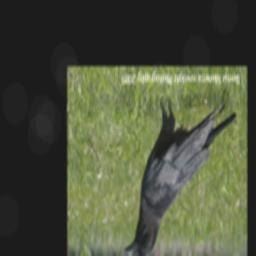Crow: (123, 93, 237, 256)
